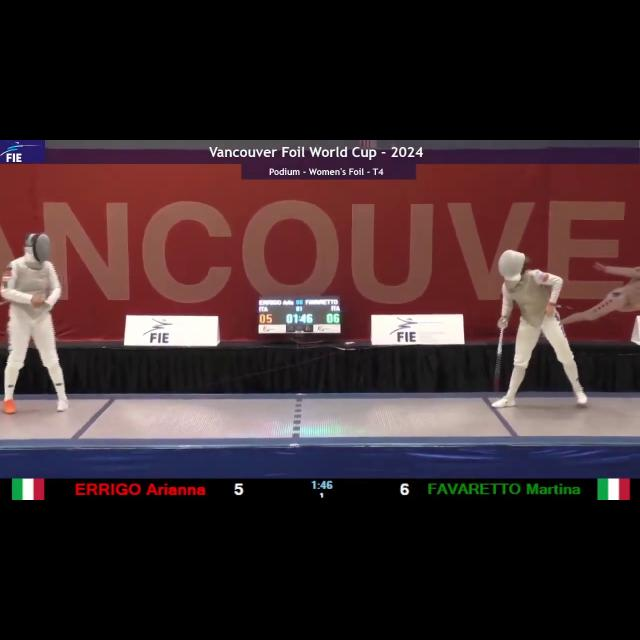blade: (496, 319, 510, 397)
